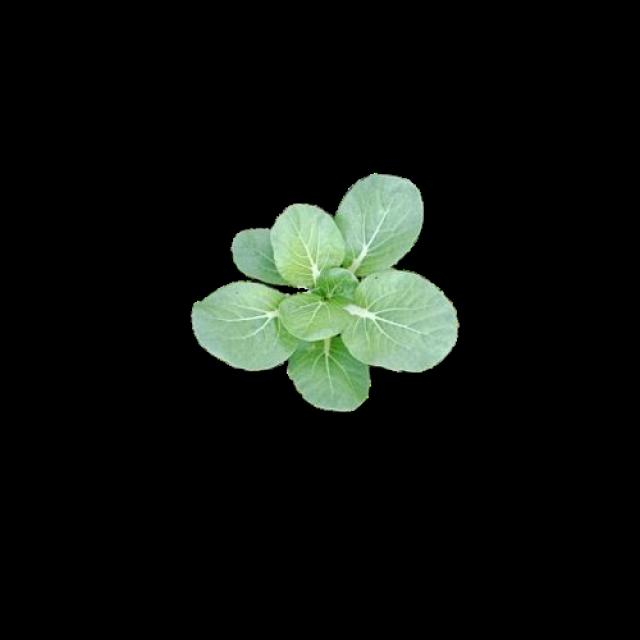healthy: (192, 170, 454, 406)
not-mature: (195, 173, 457, 408)
